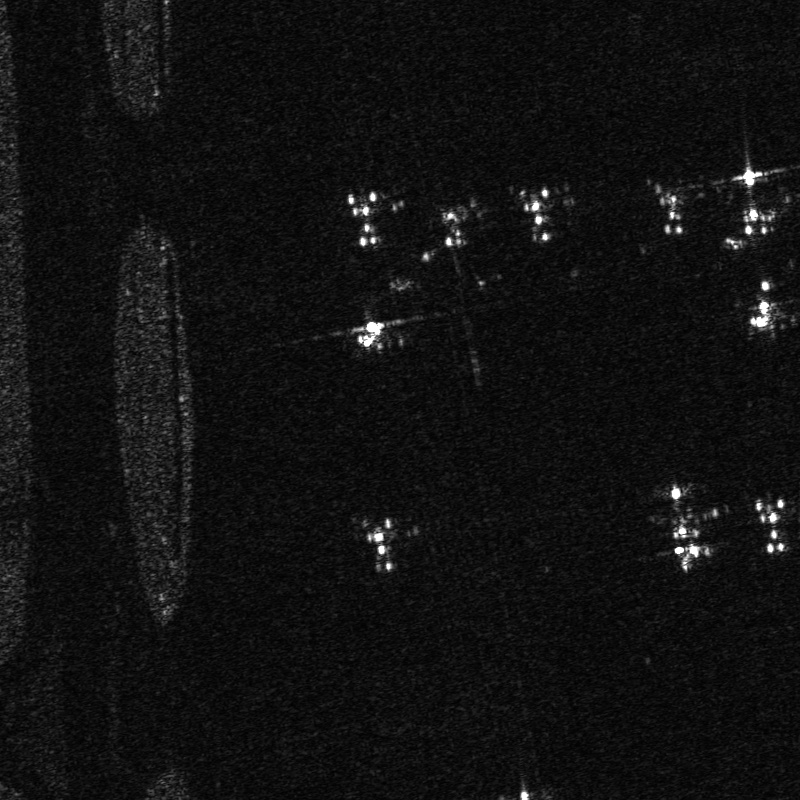ARJ21: (347, 509, 425, 580), (737, 276, 792, 340), (340, 308, 400, 360)
other: (636, 482, 734, 576), (724, 157, 796, 249), (510, 174, 576, 251), (336, 182, 403, 256), (426, 190, 488, 258), (649, 172, 709, 235)
